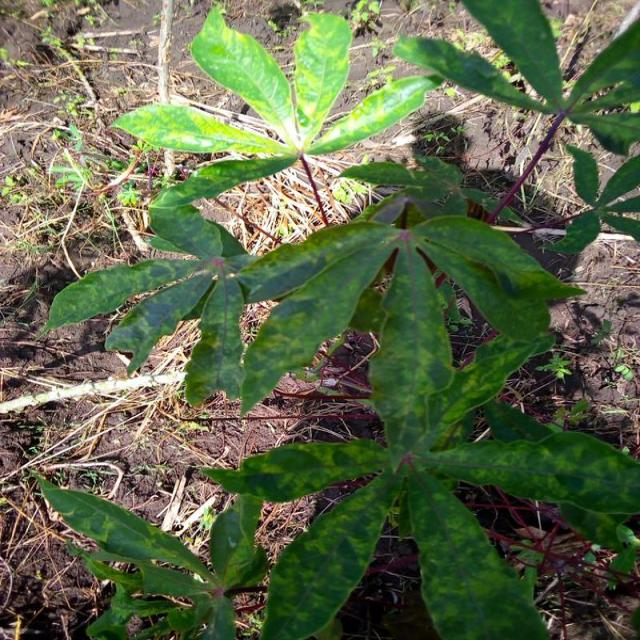cassava leaf: (36, 2, 638, 637)
